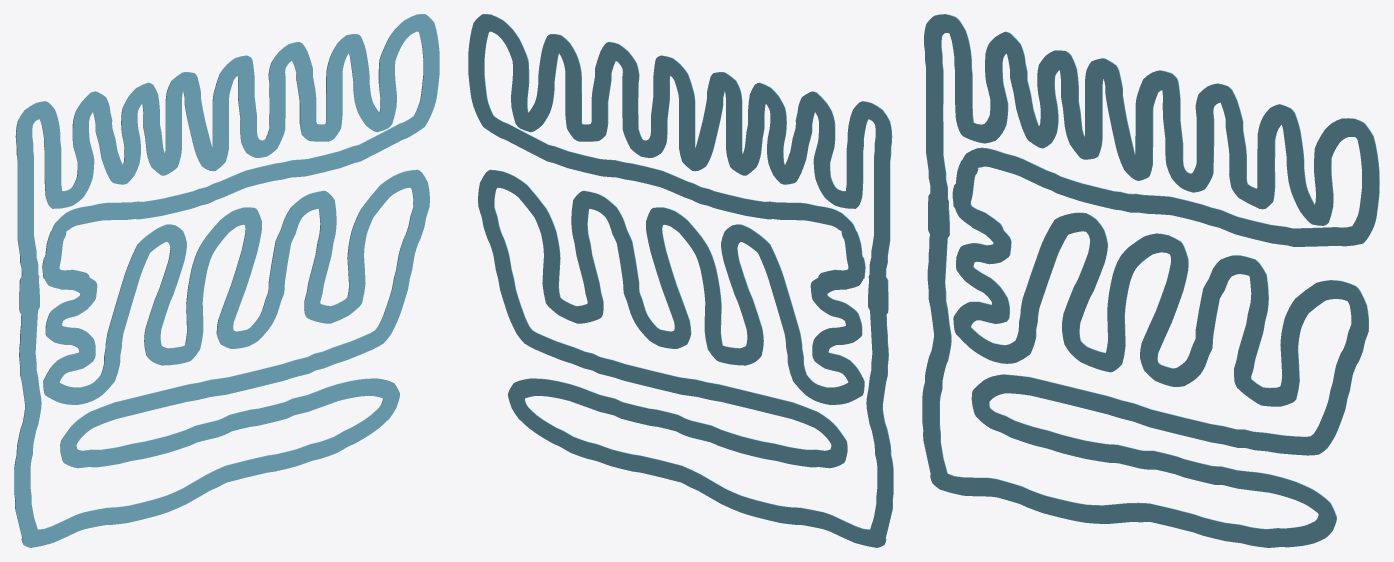
The model's file is tinker.obj.
The picture shows the model from 3 angles, left to right: view 1: azimuth 30°, elevation 25°; view 2: azimuth 150°, elevation 25°; view 3: azimuth 330°, elevation 25°; orthographic projection. The views are drawn at different scales.
Visible parts, largest first — view 1: obj_0; view 2: obj_0; view 3: obj_0.
Boxes of the visible parts, x1,y1,x2,y2 form: obj_0: (14, 14, 439, 547); obj_0: (468, 14, 893, 547); obj_0: (922, 14, 1379, 547).
Bounding box in the file's own units: 53 × 52.91 × 0.1.
